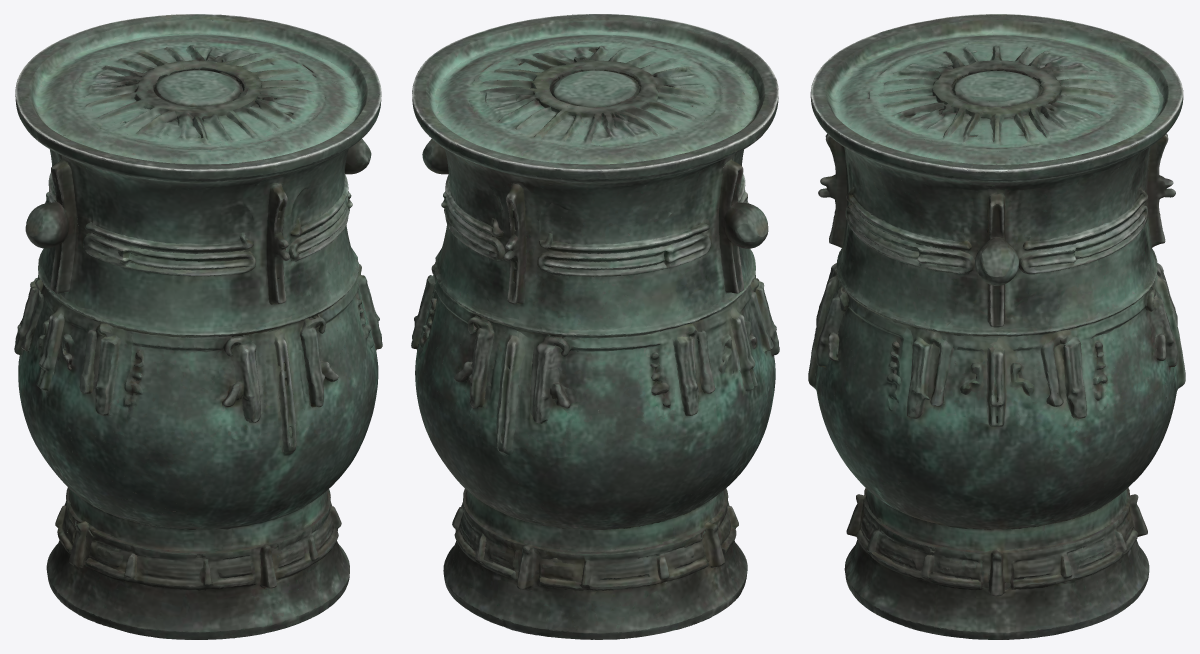
Rendered from tex_mesh.glb.
3 renders of one model, left to right at view 1: azimuth 30°, elevation 25°; view 2: azimuth 150°, elevation 25°; view 3: azimuth 270°, elevation 25°, orthographic.
Parts seen in each view (by area): view 1: world; view 2: world; view 3: world.
Boxes of the visible parts, <box> form: world: <box>14,14,382,639</box>; world: <box>411,14,779,639</box>; world: <box>808,14,1185,639</box>.
Bounding box in the file's own units: 0.3255 × 0.45 × 0.3137.
Materials: 1 (1 with a texture image).
